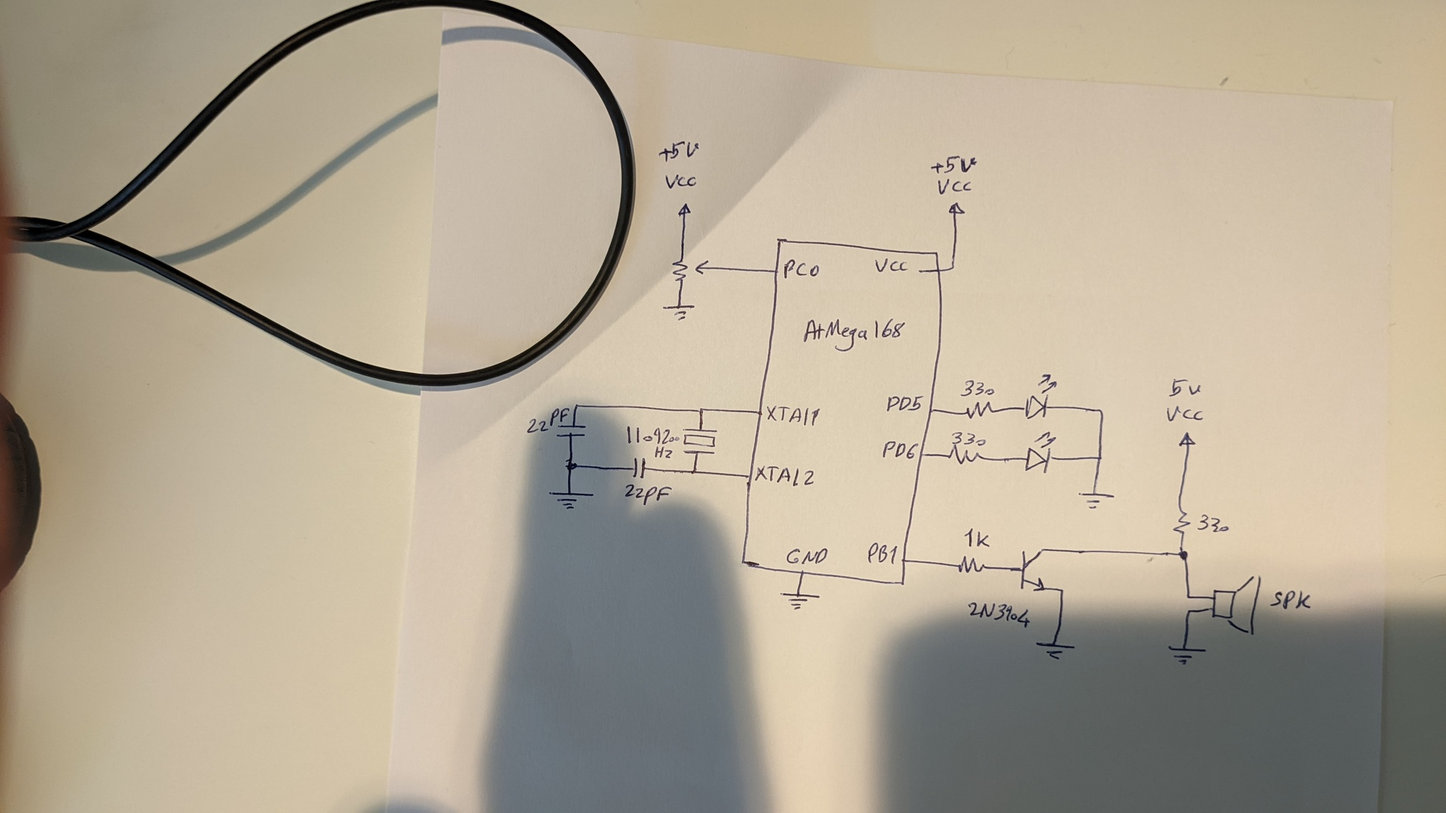capacitor.unpolarized: (630, 455, 648, 481), (561, 423, 586, 438)
crystal: (681, 427, 718, 457)
diode.light_emitting: (1021, 369, 1059, 419), (1018, 430, 1056, 475)
gnd: (1032, 639, 1077, 662), (1164, 642, 1206, 666), (779, 589, 822, 612), (549, 490, 592, 510), (1077, 488, 1116, 510), (661, 301, 697, 323)
integrated_circuit: (738, 237, 942, 586)
junction: (563, 458, 578, 471), (1176, 548, 1190, 561), (1182, 591, 1194, 602), (1093, 452, 1104, 463), (1095, 406, 1106, 417), (1183, 606, 1194, 617), (689, 467, 699, 477), (696, 406, 706, 415), (1057, 585, 1066, 594), (949, 262, 958, 270), (573, 401, 581, 409)
resistor: (948, 442, 983, 464), (957, 553, 987, 576), (963, 399, 995, 420), (1172, 507, 1191, 536)
resistor.adjustable: (670, 255, 712, 287)
speaker: (1210, 574, 1261, 634)
text: (800, 313, 902, 354), (966, 599, 1033, 629), (752, 463, 818, 487), (764, 402, 821, 429), (930, 153, 978, 181), (526, 404, 570, 434), (653, 137, 702, 163), (624, 424, 681, 445), (622, 482, 671, 506), (1270, 587, 1311, 612), (785, 545, 829, 566), (884, 392, 924, 414), (935, 172, 973, 195), (881, 439, 919, 461), (783, 257, 820, 279), (866, 541, 898, 566), (1164, 404, 1205, 423), (1167, 377, 1202, 398), (873, 255, 908, 275), (963, 527, 991, 551), (1196, 515, 1229, 534), (663, 170, 695, 189), (961, 378, 993, 396), (953, 430, 984, 447), (653, 445, 673, 460)
transistor.bjt: (1018, 544, 1052, 594)
vss: (1175, 432, 1199, 450), (945, 200, 967, 218), (676, 201, 693, 219)
